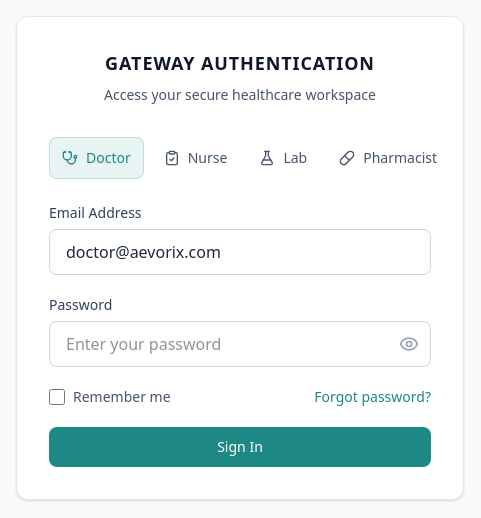
Test: LoginPage › toggles password visibility
Click the button named "Show password".
click(409, 344)  # box [399,334,419,354]
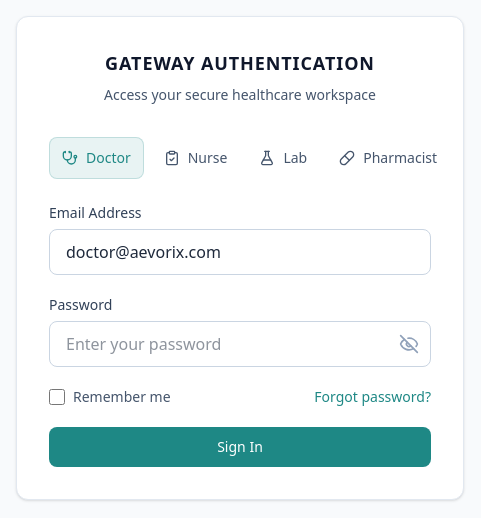
Expected: the button named "Hide password" is shown, [399,334,419,354]
